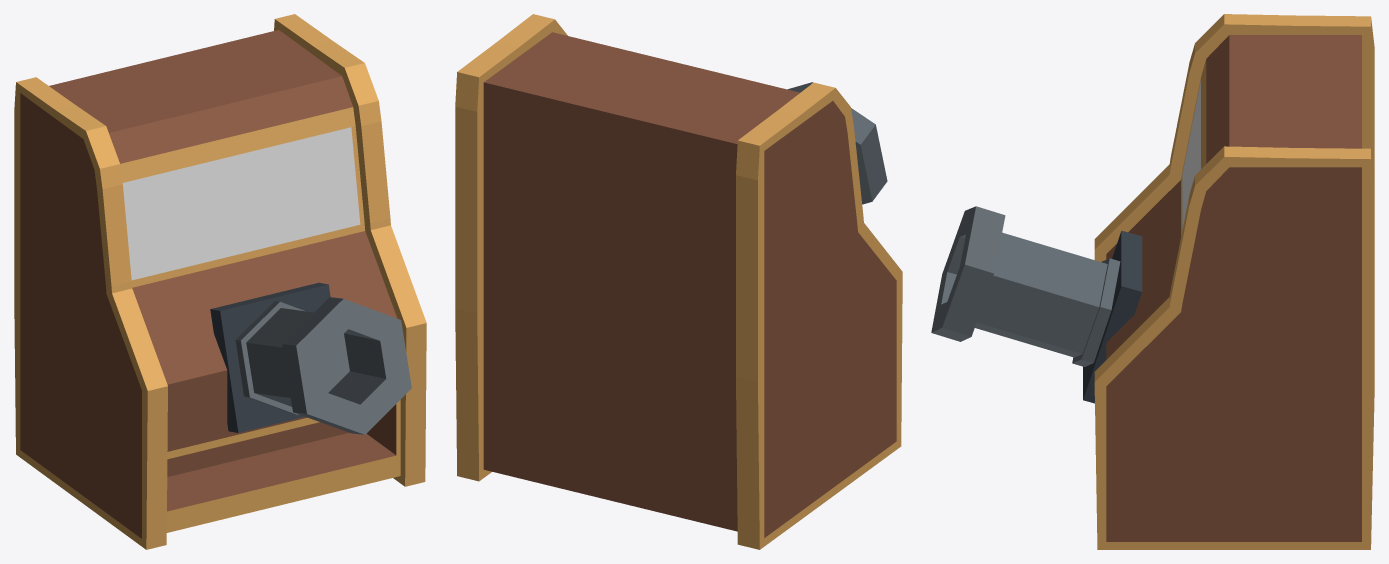
Rendered from RangedMachine_Model.fbx.
The picture shows the model from 3 angles, left to right: view 1: azimuth 30°, elevation 25°; view 2: azimuth 150°, elevation 25°; view 3: azimuth 270°, elevation 25°; orthographic projection. The views are drawn at different scales.
Visible parts, largest first — view 1: Enemy_:Body, Enemy_:Cannon; view 2: Enemy_:Body, Enemy_:Cannon; view 3: Enemy_:Body, Enemy_:Cannon.
Boxes of the visible parts, x1=… form: Enemy_:Body: x1=14, y1=14, x2=426, y2=549; Enemy_:Cannon: x1=210, y1=282, x2=411, y2=434; Enemy_:Body: x1=455, y1=14, x2=902, y2=549; Enemy_:Cannon: x1=787, y1=82, x2=887, y2=204; Enemy_:Body: x1=1094, y1=14, x2=1374, y2=549; Enemy_:Cannon: x1=931, y1=206, x2=1142, y2=403.
Size of the model in its own units: 88.12 by 113 by 116.
